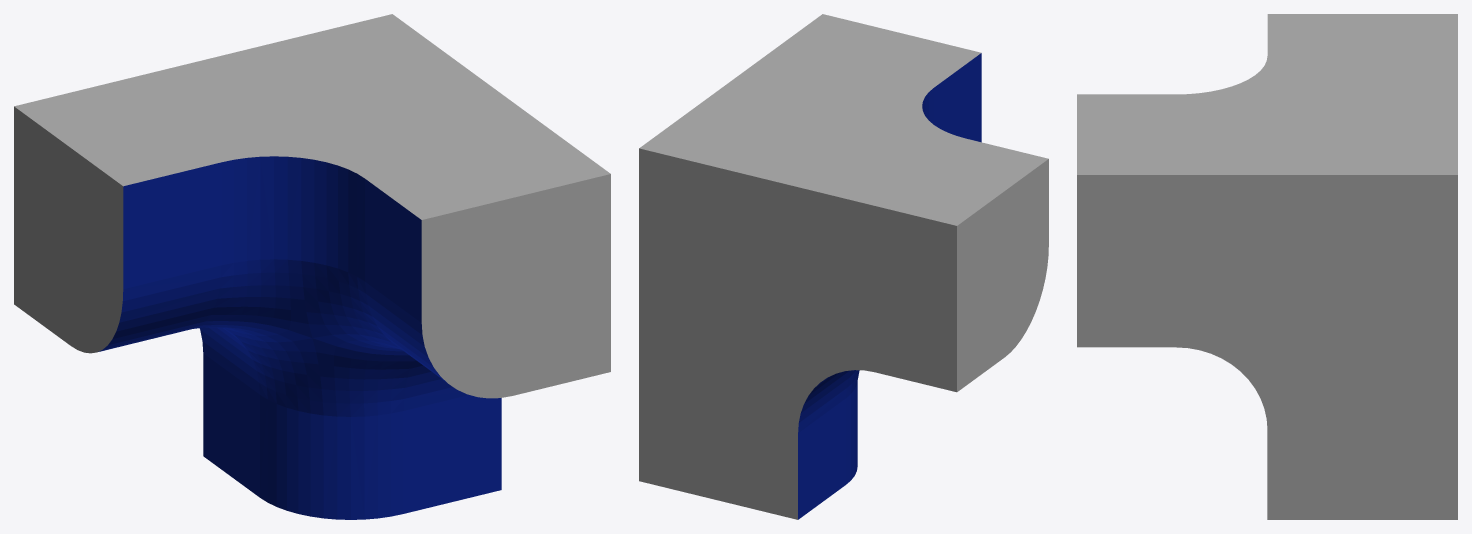
File: case_114.fbx
3 renders of one model, left to right at view 1: azimuth 30°, elevation 25°; view 2: azimuth 150°, elevation 25°; view 3: azimuth 270°, elevation 25°, orthographic. The views are drawn at different scales.
Visible parts, largest first — view 1: case_114; view 2: case_114; view 3: case_114.
Boxes of the visible parts, <box> form: case_114: <box>14,14,610,519</box>; case_114: <box>639,14,1048,519</box>; case_114: <box>1077,14,1457,519</box>.
Size of the model in its own units: 100 by 100 by 100.
